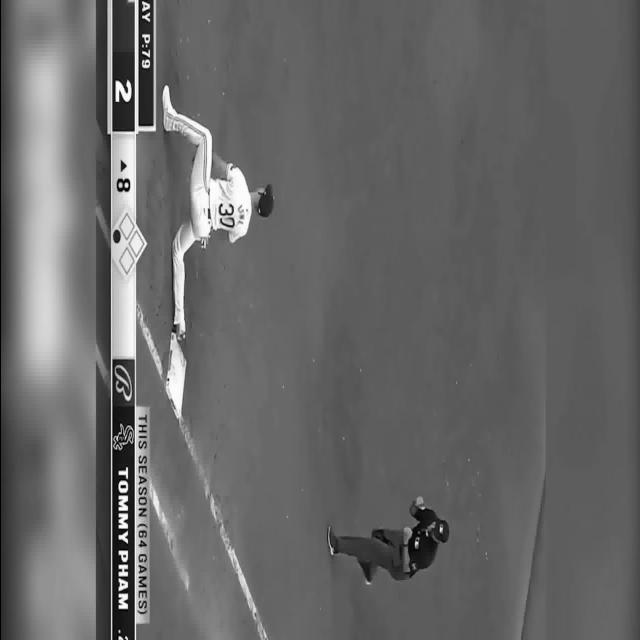base: (168, 336, 184, 422)
shoe: (161, 84, 173, 131), (326, 525, 336, 555), (172, 321, 186, 341)
